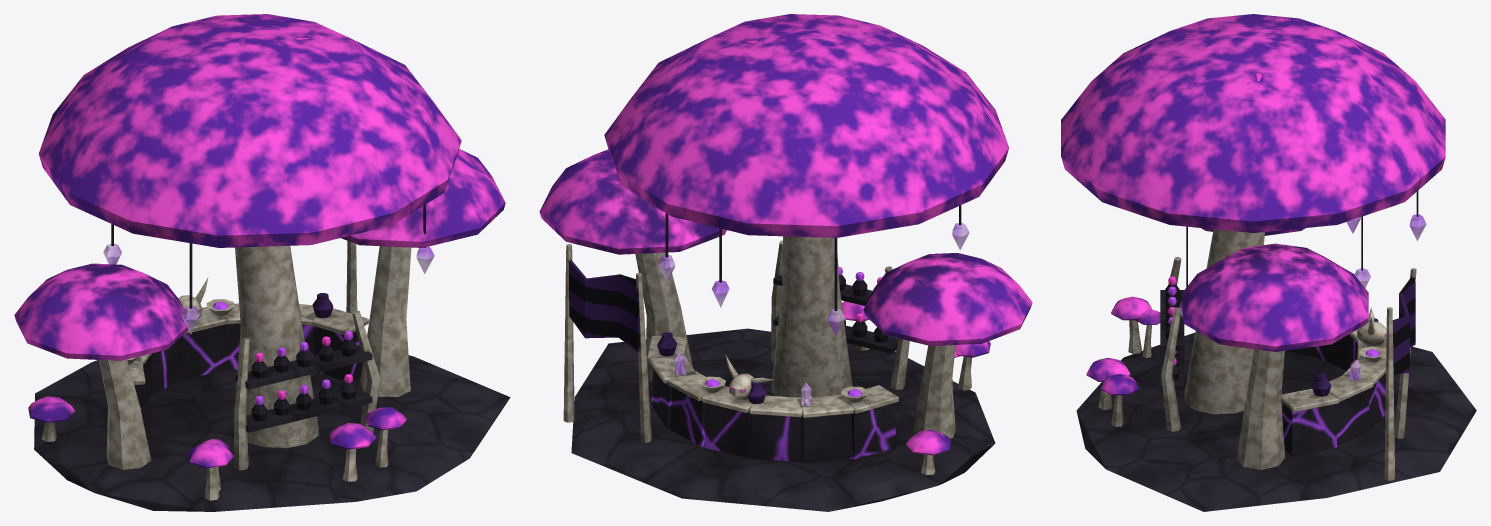
Rendered from mercado_monstruo.fbx.
3 views of the same model, side by side, from view 1: azimuth 30°, elevation 25°; view 2: azimuth 150°, elevation 25°; view 3: azimuth 270°, elevation 25° (orthographic). The views are drawn at different scales.
Visible parts, largest first — view 1: mercado_monstruo, mercado_monstruo_cristal; view 2: mercado_monstruo, mercado_monstruo_cristal; view 3: mercado_monstruo, mercado_monstruo_cristal.
Boxes of the visible parts, <box> form: mercado_monstruo: <box>14,14,510,511</box>; mercado_monstruo_cristal: <box>103,243,434,334</box>; mercado_monstruo: <box>539,14,1032,511</box>; mercado_monstruo_cristal: <box>658,222,969,406</box>; mercado_monstruo: <box>1061,14,1476,511</box>; mercado_monstruo_cristal: <box>1178,214,1426,381</box>.
Size of the model in its own units: 27.89 by 22.66 by 22.57.
3 materials, 3 textured.
